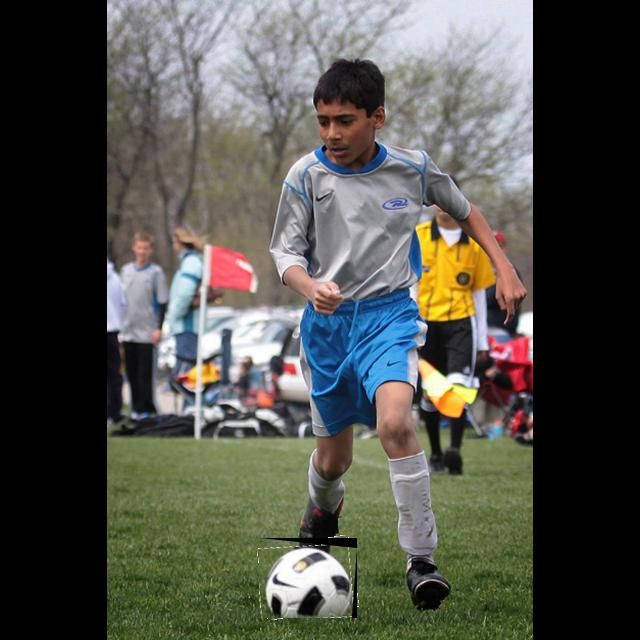Football: (259, 538, 357, 618)
